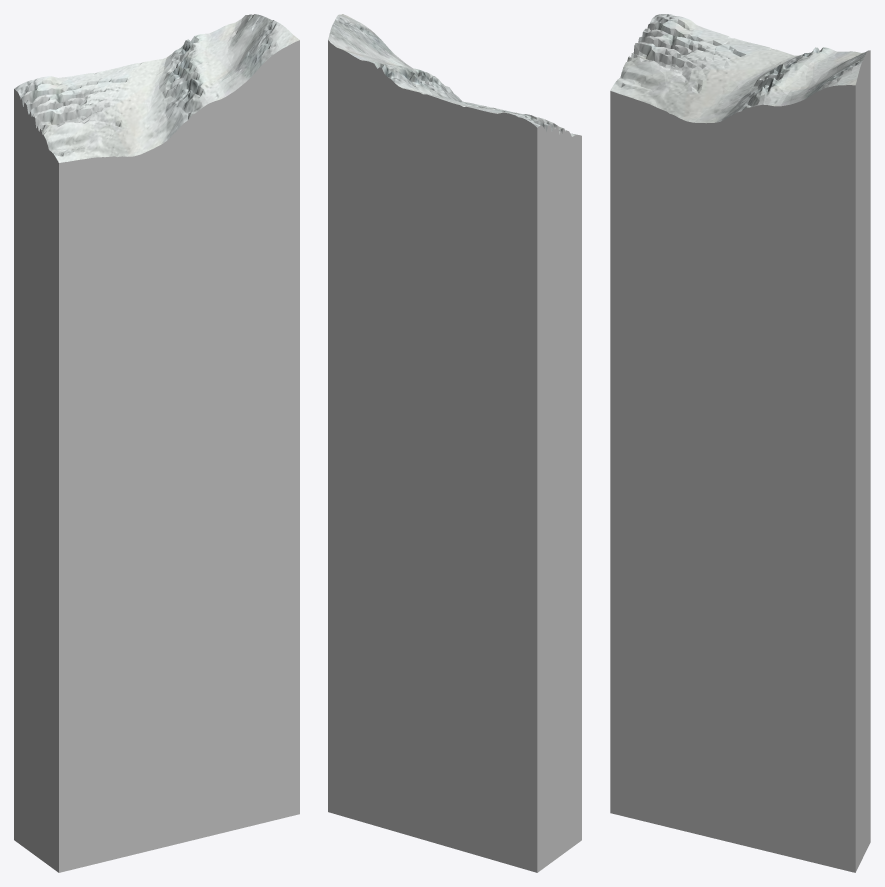
The model's file is GrindScene4.gltf.
3 views of the same model, side by side, from view 1: azimuth 30°, elevation 25°; view 2: azimuth 150°, elevation 25°; view 3: azimuth 330°, elevation 25° (orthographic). The views are drawn at different scales.
Visible parts, largest first — view 1: Plane; view 2: Plane; view 3: Plane.
Boxes of the visible parts, box(x1,y1,x2,y2) form: Plane: box(14, 14, 299, 872); Plane: box(328, 14, 581, 872); Plane: box(610, 14, 870, 872).
Size of the model in its own units: 0.4728 by 1.47 by 0.1526.
2 materials, 1 textured.
